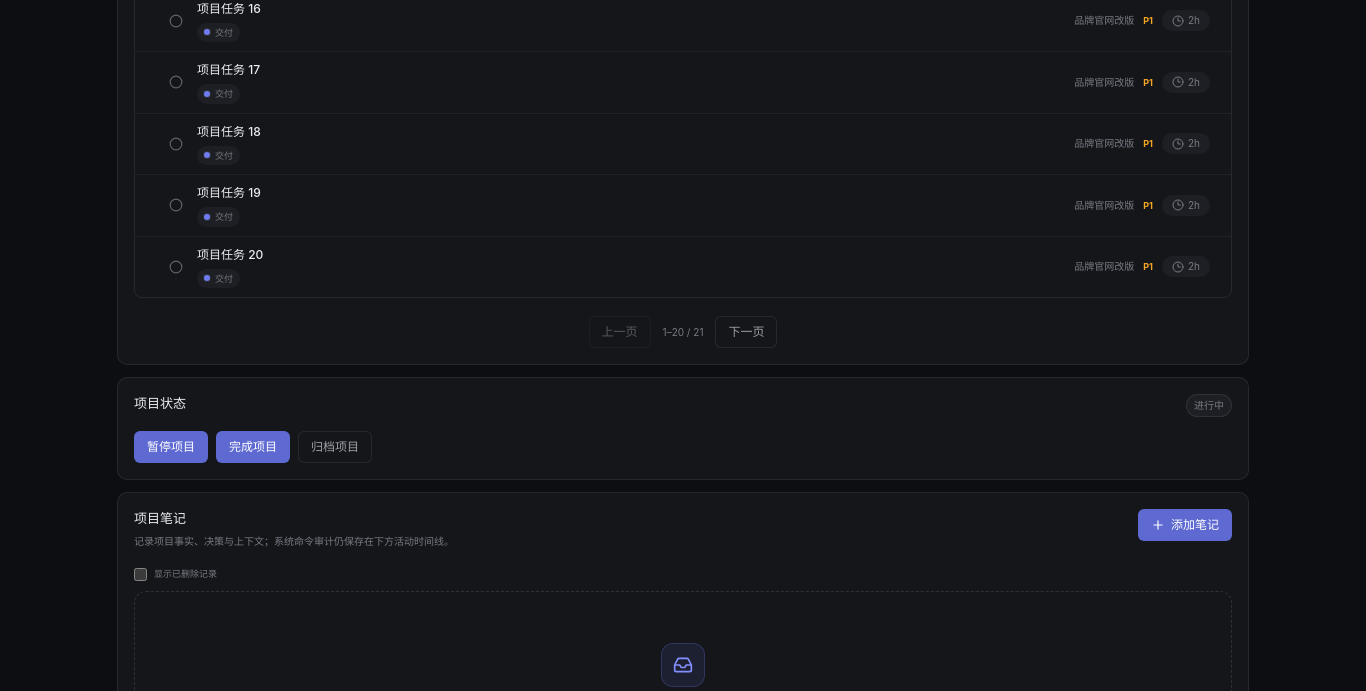
it: ProjectDetailPage › searches, filters and paginates project tasks through the server query
(page scrolled)
expect the text "1–20 / 21" is shown: met, box left=662, top=324, right=703, bottom=340
Click the button "下一页": [746, 332] box left=716, top=316, right=778, bottom=348
(page scrolled)
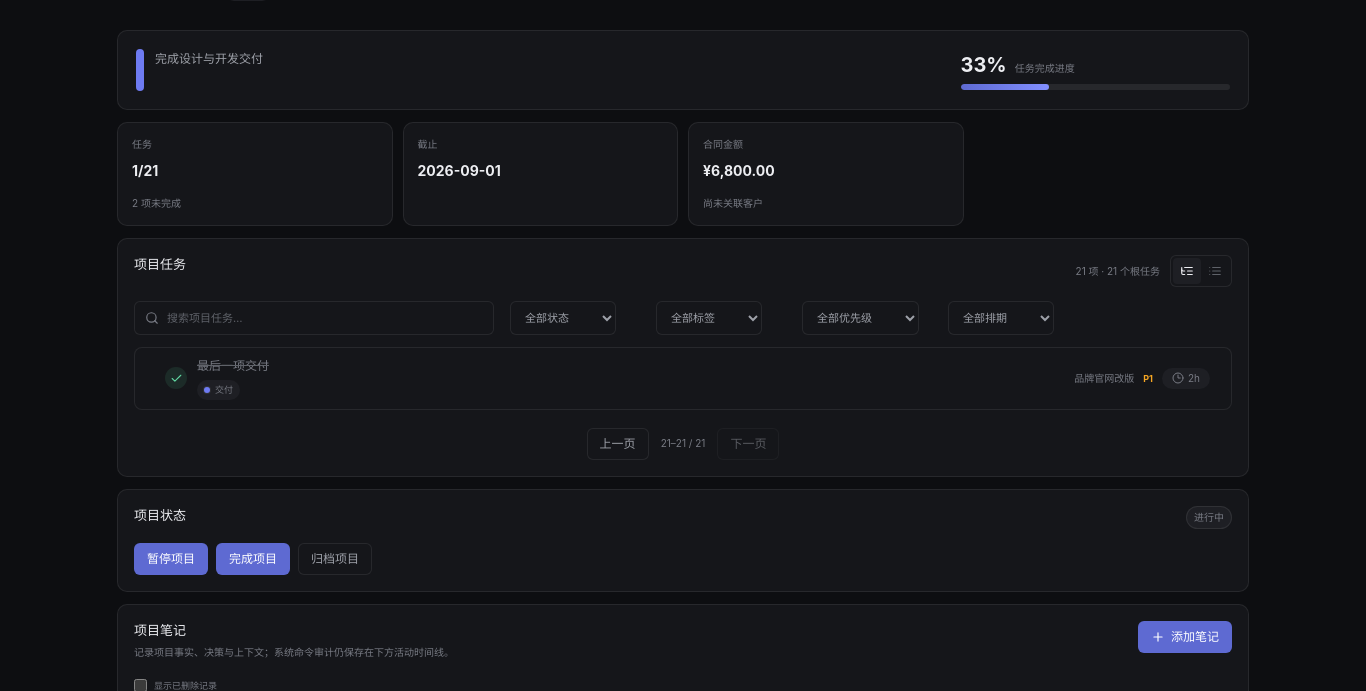
expect the text "最后一项交付" is shown: met, box left=197, top=358, right=269, bottom=373
Select "已完成" in the dropdown named "项目任务状态": [563, 318] box left=510, top=301, right=616, bottom=335
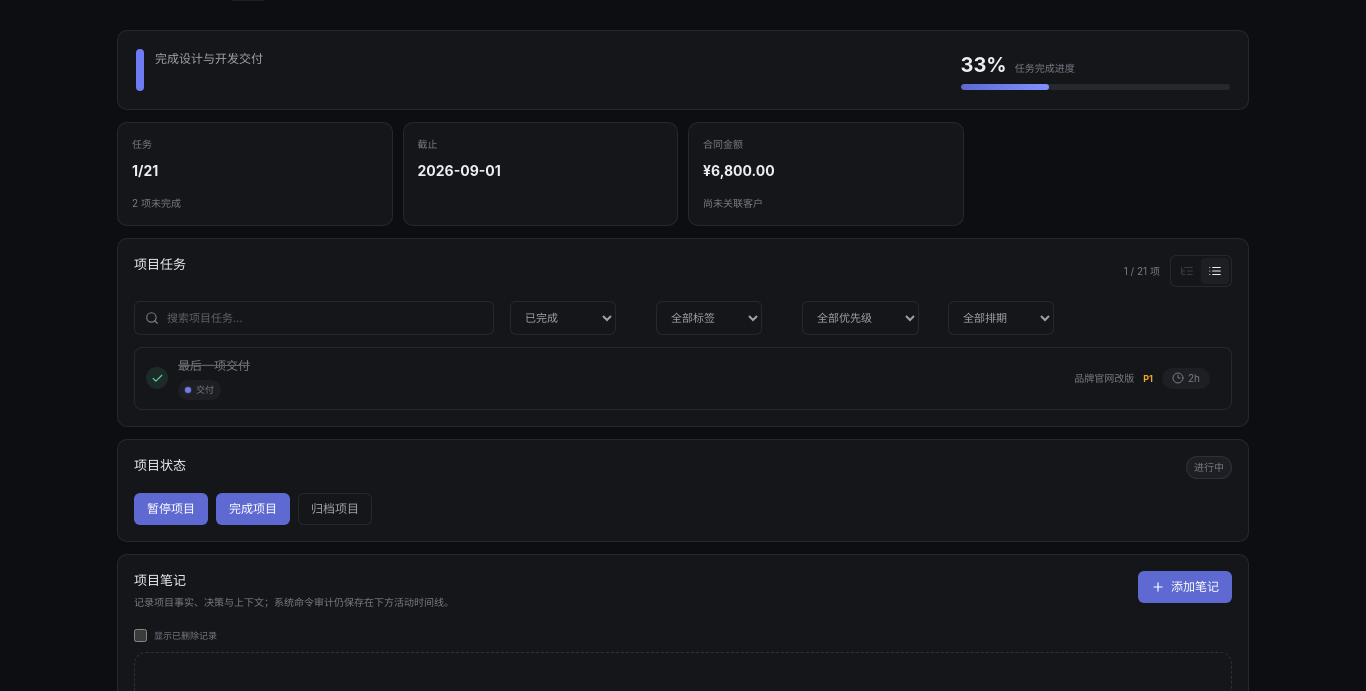
Select "P1 高" in the dropdown named "项目任务优先级": [860, 318] box left=802, top=301, right=919, bottom=335
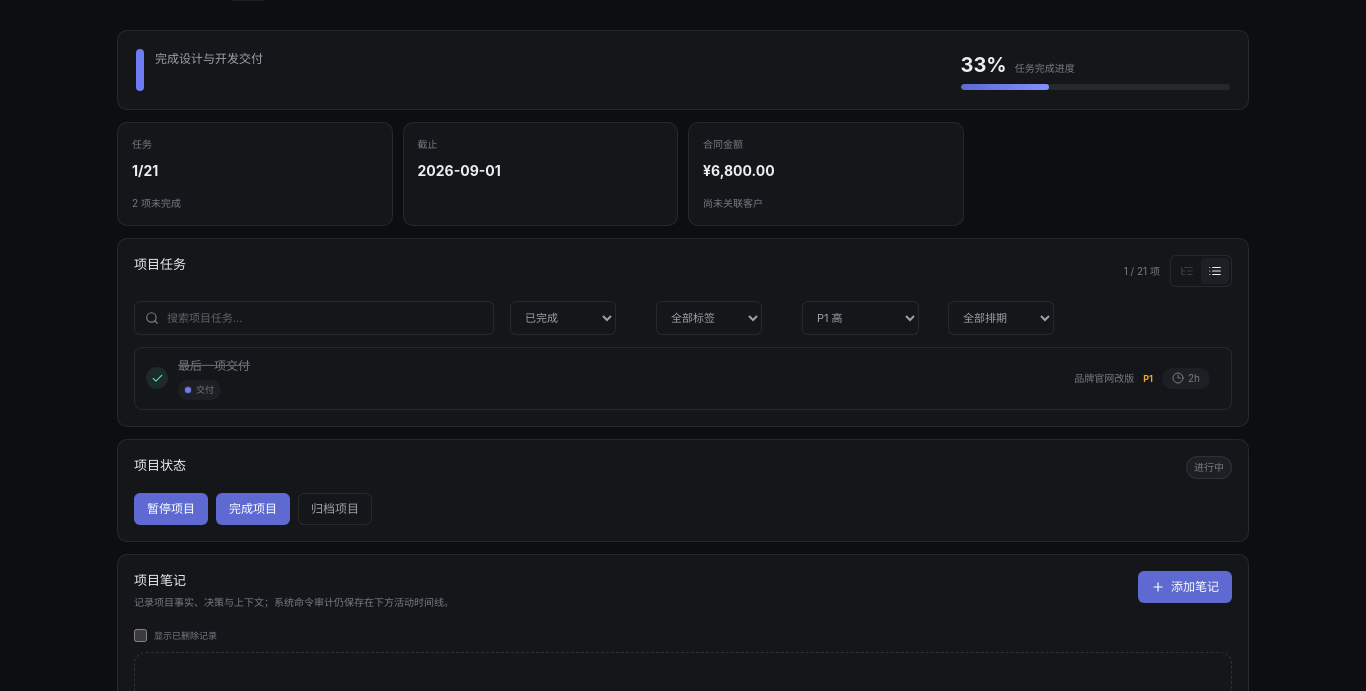
Select "未排期" in the dropdown named "项目任务排期": [1001, 318] box left=948, top=301, right=1054, bottom=335
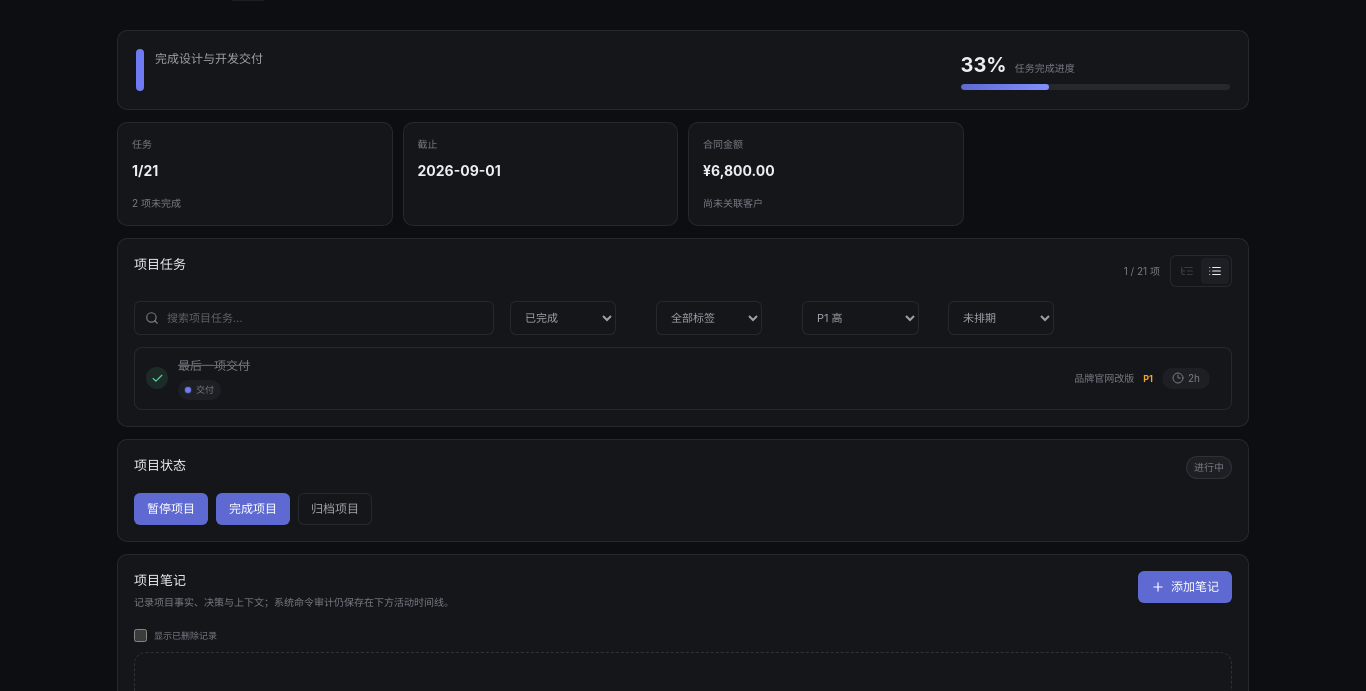
Select "交付" in the dropdown named "项目任务标签": [709, 318] box left=656, top=301, right=762, bottom=335
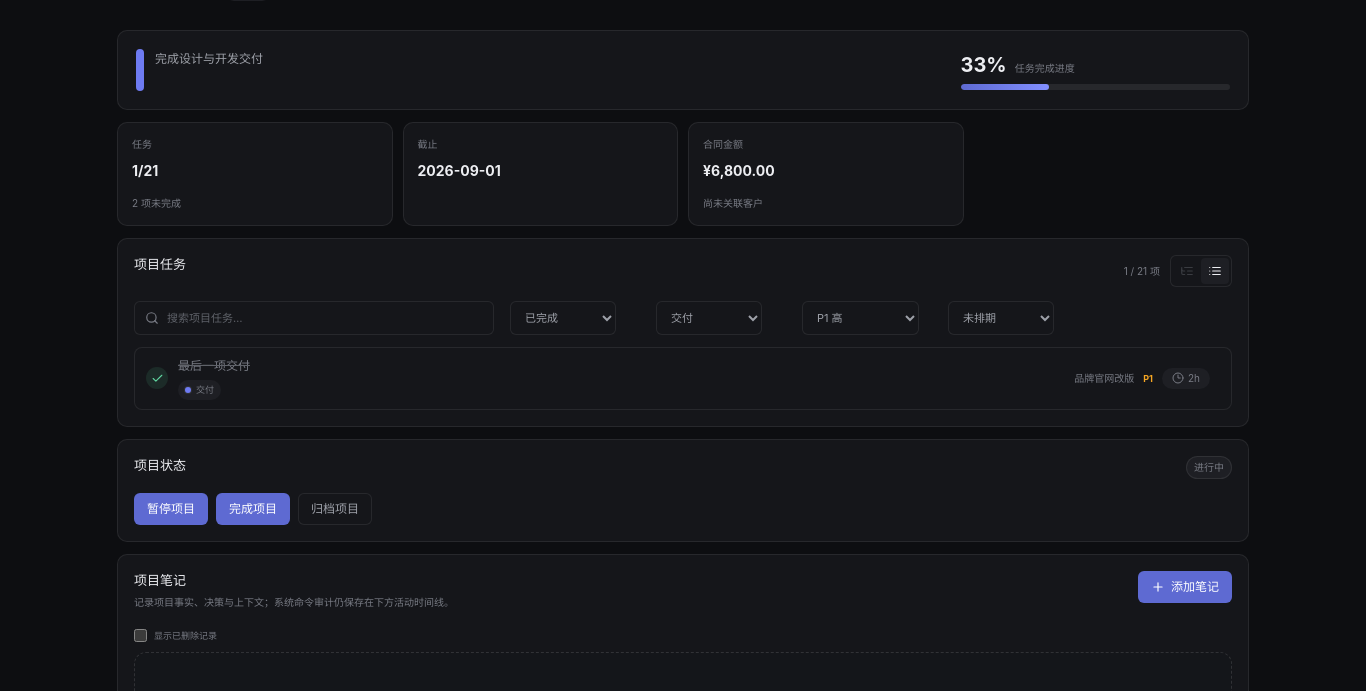
expect the text "1 / 21 项" is shown: met, box left=1124, top=264, right=1160, bottom=278
expect the button named "任务树视图" is disabled: met, box left=1173, top=258, right=1201, bottom=284
In the field named "搜索项目任务标题或描述": [325, 318] box left=167, top=310, right=483, bottom=326, type "不存在"
Wait 300 ms
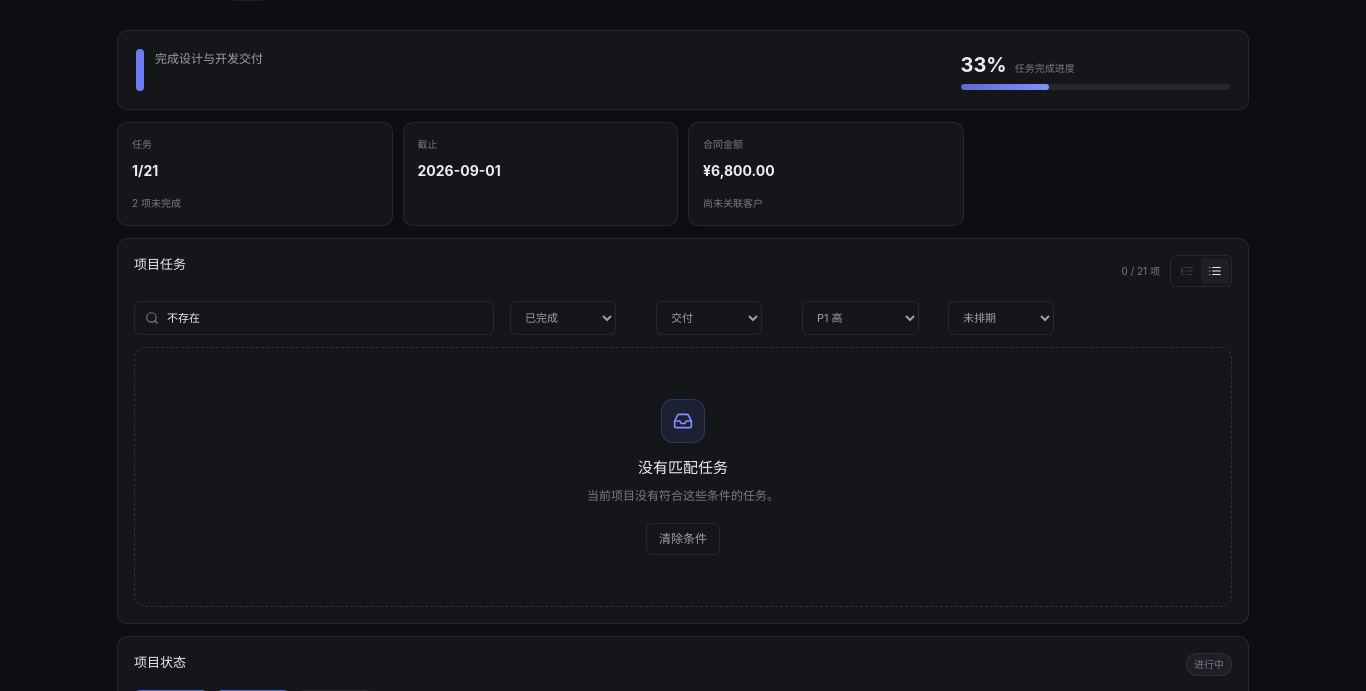
expect the heading "没有匹配任务" is shown: met, box left=638, top=457, right=728, bottom=480
